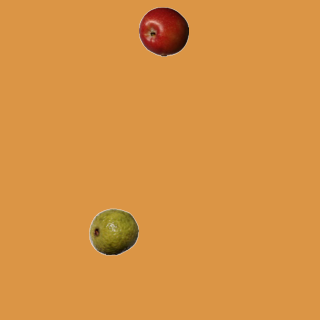Apple Braeburn: (138, 6, 188, 56)
Guava: (88, 206, 138, 256)
